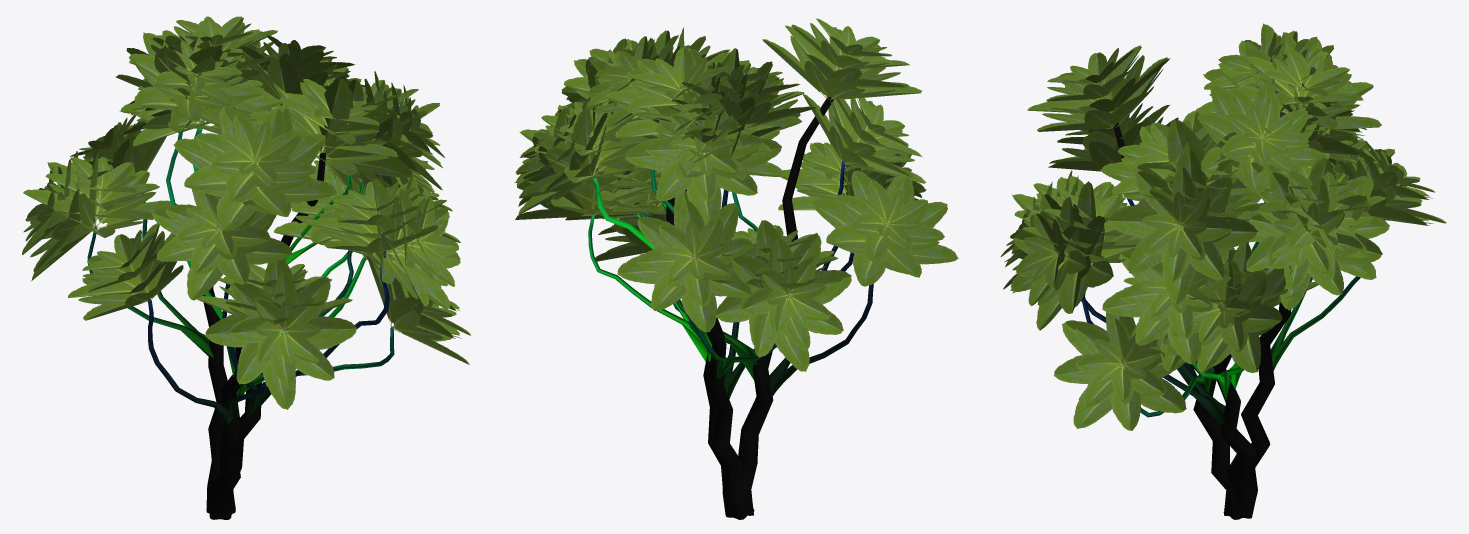
Rendered from champa1.fbx.
3 renders of one model, left to right at view 1: azimuth 30°, elevation 25°; view 2: azimuth 150°, elevation 25°; view 3: azimuth 270°, elevation 25°, orthographic.
Parts seen in each view (by area): view 1: champa_LOD0; view 2: champa_LOD0; view 3: champa_LOD0.
Part boxes in pixels (left/top/right/bottom): champa_LOD0: left=22, top=16, right=471, bottom=519; champa_LOD0: left=514, top=18, right=958, bottom=519; champa_LOD0: left=1000, top=23, right=1446, bottom=519.
Size of what is drawn, in the model's own units: 418 by 467 by 407.
